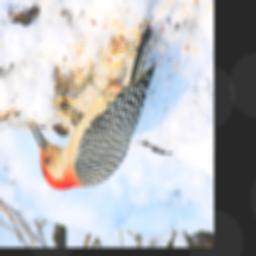Woodpecker: (29, 16, 159, 191)
